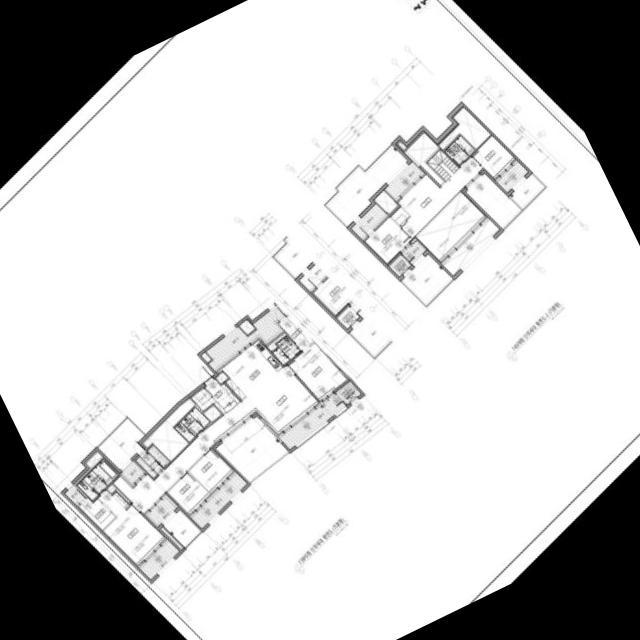background: (0, 0, 640, 640)
space_balconi: (327, 145, 407, 225), (205, 301, 287, 369), (215, 415, 287, 481), (279, 393, 345, 449), (191, 472, 246, 528), (401, 253, 451, 303), (98, 418, 144, 469), (139, 539, 179, 579), (384, 161, 421, 199), (163, 509, 200, 546), (350, 203, 386, 238), (135, 444, 169, 477), (509, 173, 542, 206), (496, 161, 527, 192), (147, 496, 176, 525), (401, 239, 425, 263), (120, 460, 143, 483), (64, 484, 83, 503)
space_bedroom: (97, 489, 164, 564), (287, 342, 346, 400), (364, 216, 411, 263), (188, 448, 232, 492), (471, 135, 514, 178), (167, 471, 209, 514)
space_dressroom: (278, 313, 313, 349), (78, 497, 114, 529)
space_front: (204, 378, 239, 413)
space_kitchen: (216, 339, 282, 399)
space_living_room: (112, 365, 318, 513), (397, 156, 482, 237)
space_other: (415, 190, 485, 261), (143, 397, 195, 460), (442, 218, 499, 275), (465, 172, 520, 227), (438, 106, 490, 149), (405, 131, 443, 184), (425, 147, 459, 181), (373, 189, 397, 213), (190, 387, 215, 410), (160, 526, 183, 549), (106, 483, 129, 502), (390, 206, 409, 225), (266, 332, 286, 350), (202, 404, 221, 421), (85, 451, 102, 468), (238, 318, 254, 334), (215, 371, 227, 383), (200, 351, 211, 362), (397, 140, 406, 149)
space_outdoor_room: (335, 380, 361, 404), (388, 253, 410, 276)
space_toilet: (76, 459, 117, 500), (174, 406, 209, 441), (444, 135, 474, 165), (272, 335, 300, 364)
